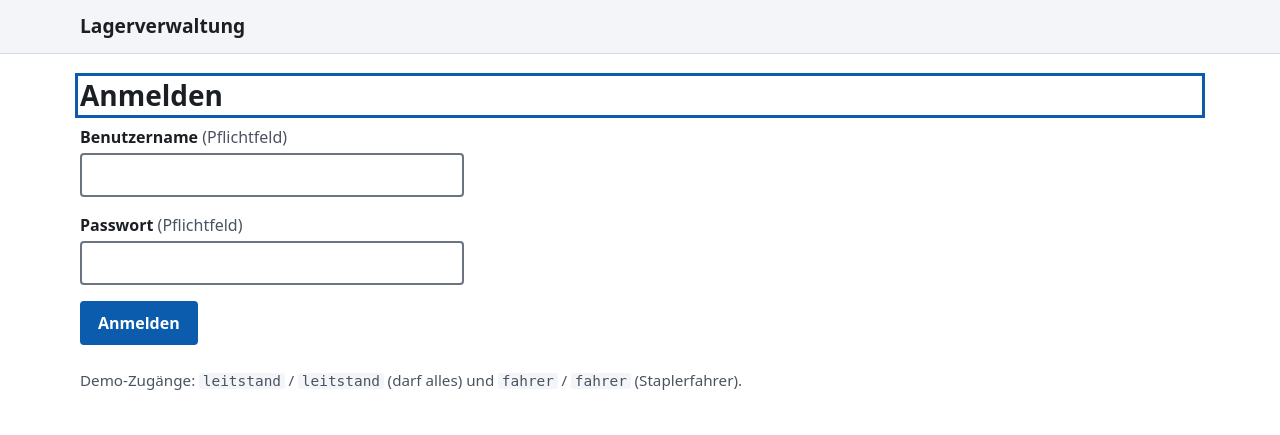
Test case: ohne Anmeldung geht es zur Anmeldung und danach zurück zur gewünschten Seite
The image size is (1280, 435).
Expected: the heading reads "Anmelden", 80,76 -> 223,114
Type "leitstand" into the field labelled "Benutzername (Pflichtfeld)" at (272, 175), box 80,153 -> 464,197
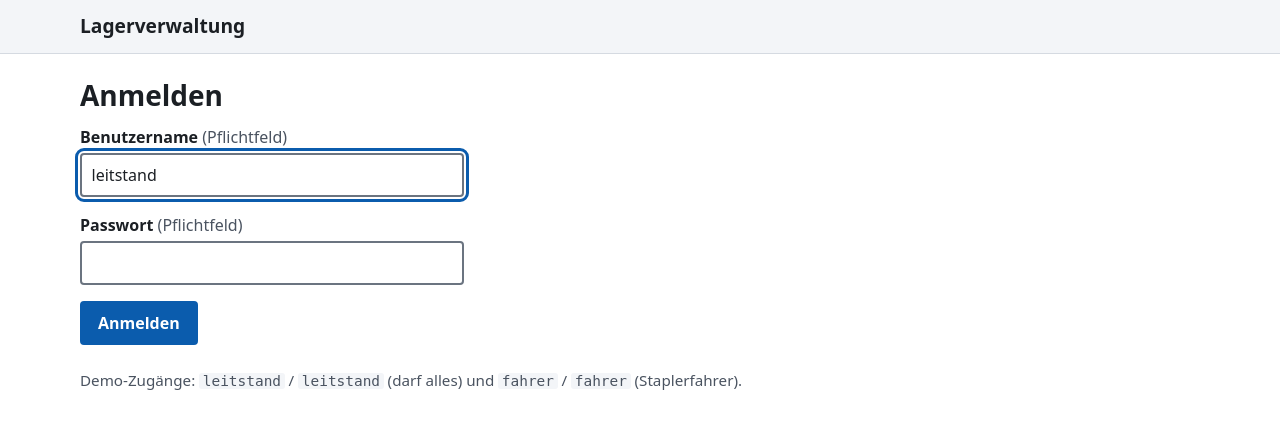
Type "leitstand" into the password field labelled "Passwort (Pflichtfeld)" at (272, 263), box 80,241 -> 464,285
Then press Enter
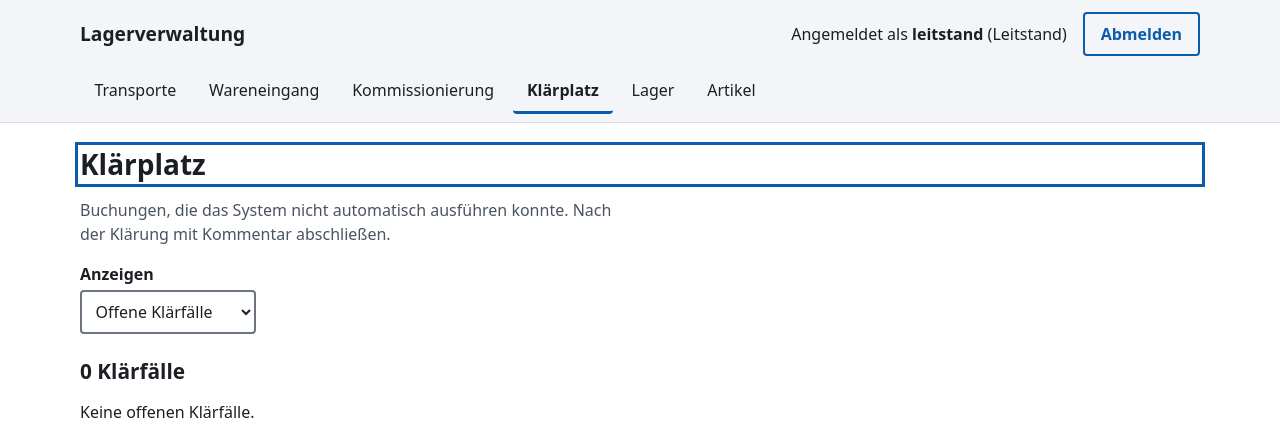
Expected: the heading "Klärplatz" is shown, 80,145 -> 206,183
